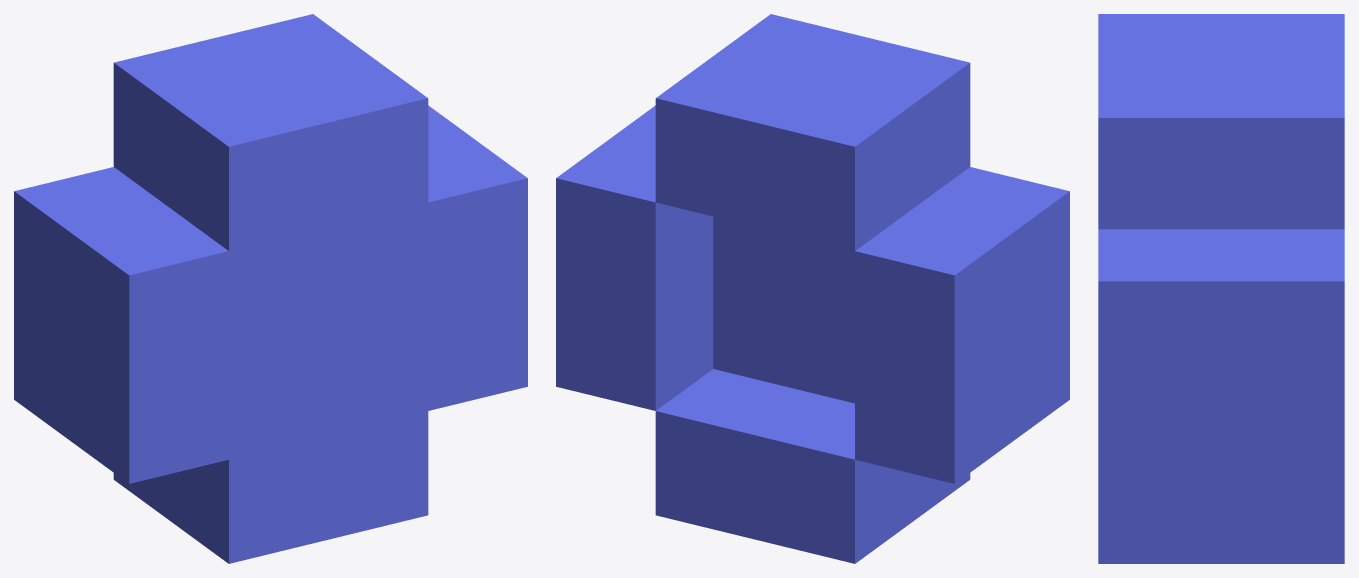
Rendered from navybluel.fbx.
3 renders of one model, left to right at view 1: azimuth 30°, elevation 25°; view 2: azimuth 150°, elevation 25°; view 3: azimuth 270°, elevation 25°, orthographic. The views are drawn at different scales.
Parts seen in each view (by area): view 1: cube.004, cube.005, cube.001, cube.002, cube.003; view 2: cube.004, cube.005, cube.002, cube.003, cube.001; view 3: cube.003, cube.005, cube.002.
Part boxes in pixels (<box>): cube.004: <box>14,167,228,483</box>; cube.005: <box>113,14,428,250</box>; cube.001: <box>229,202,428,459</box>; cube.002: <box>113,411,428,563</box>; cube.003: <box>428,105,527,410</box>; cube.004: <box>855,167,1069,483</box>; cube.005: <box>655,14,970,250</box>; cube.002: <box>655,369,970,563</box>; cube.003: <box>556,105,713,410</box>; cube.001: <box>713,216,854,403</box>; cube.003: <box>1098,229,1344,504</box>; cube.005: <box>1098,14,1344,229</box>; cube.002: <box>1098,504,1344,563</box>.
Bounding box in the file's own units: 25 × 25 × 12.5.
